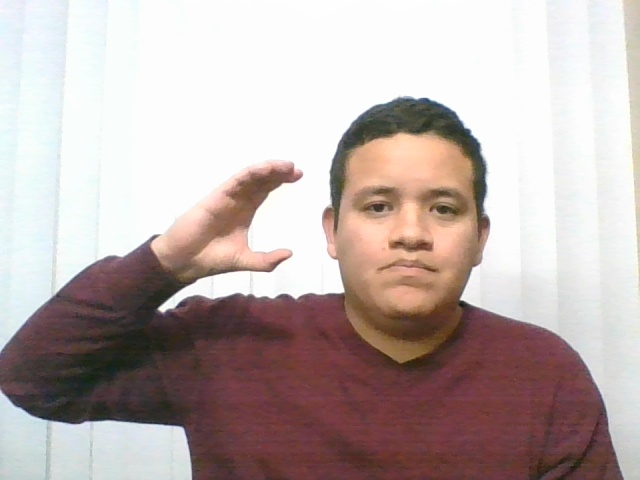Cousin: (133, 146, 319, 303)
